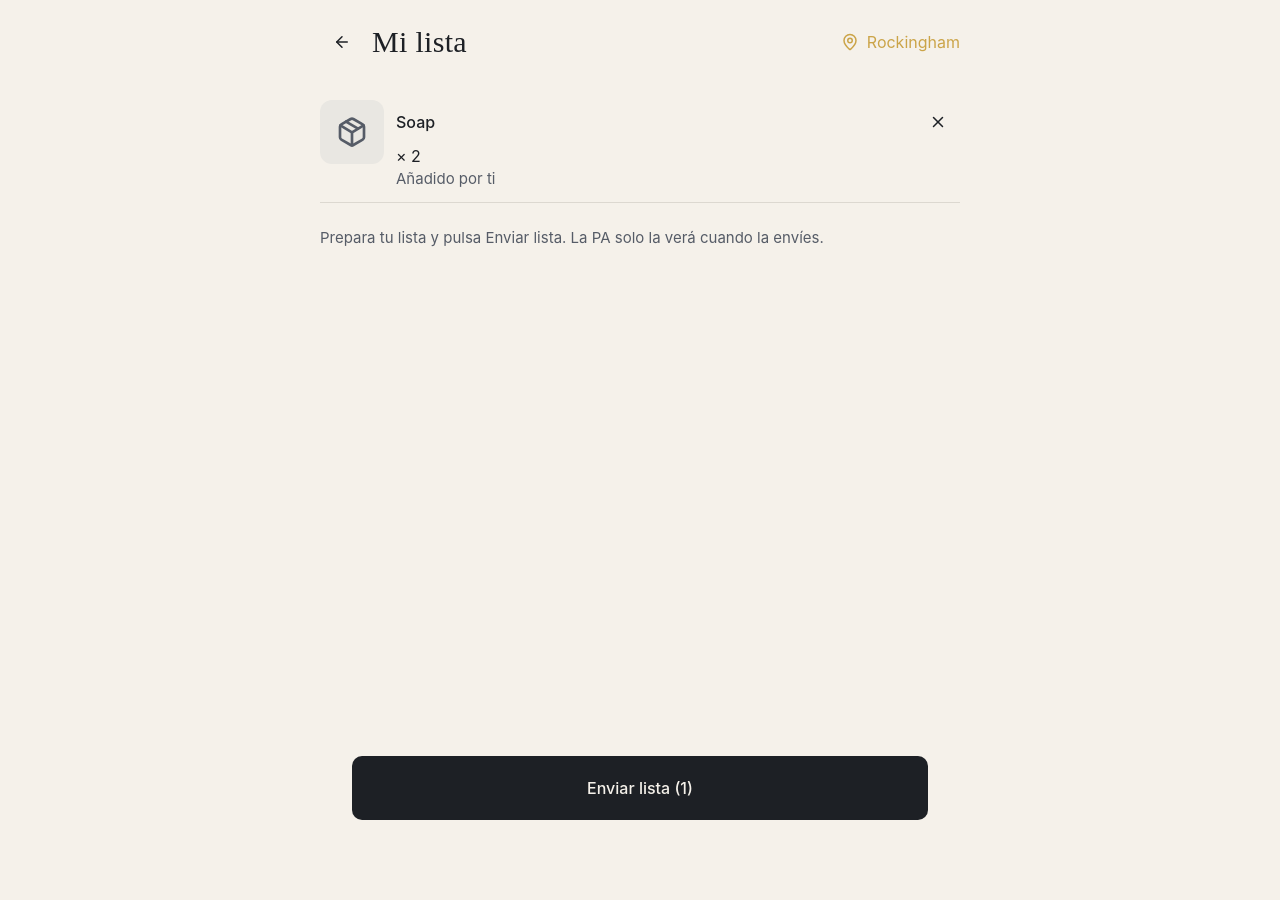
Test case: requester screens › Spanish list send and arrival labels
Click the button "Enviar lista (1)". click: (640, 788)
box: [352,756,928,820]
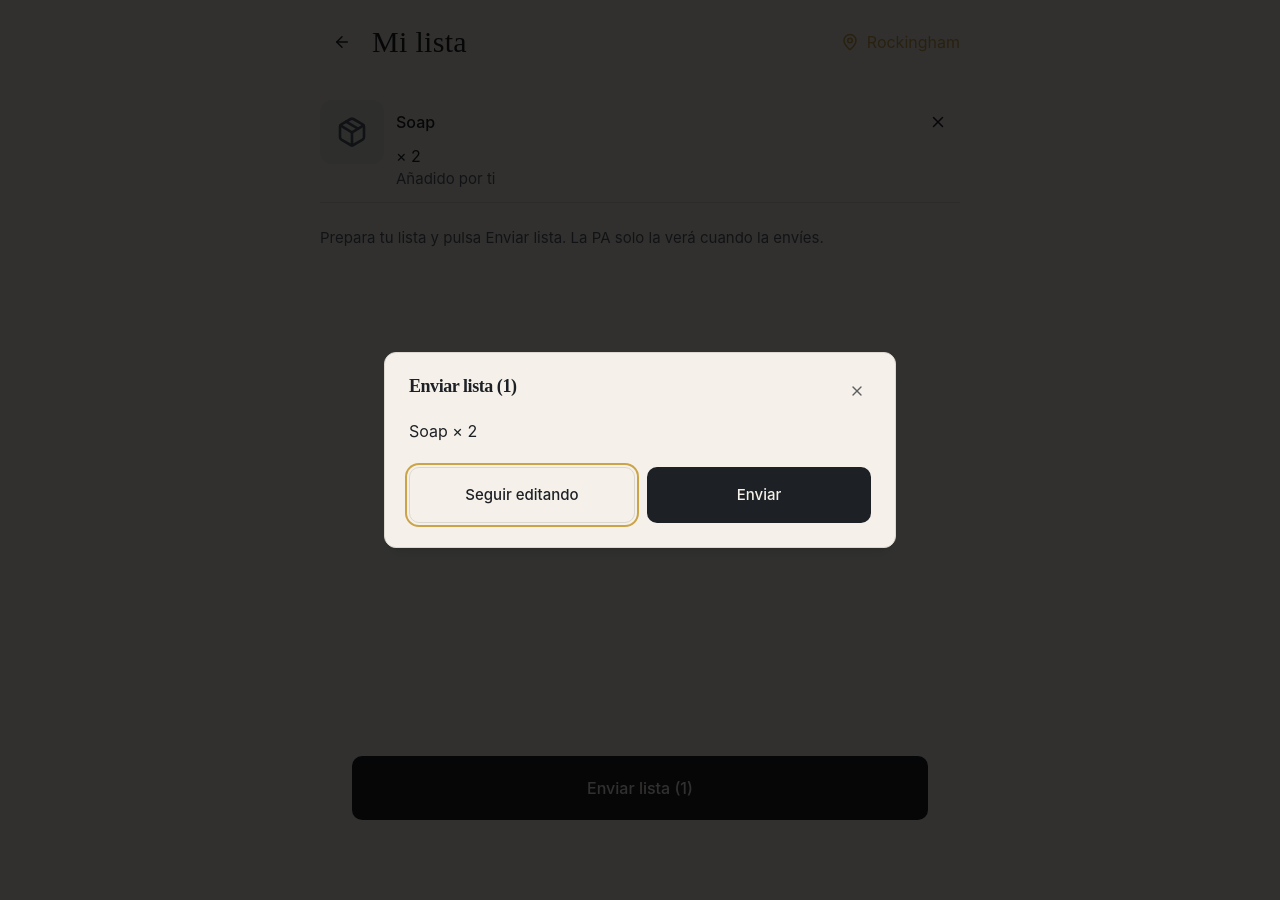
expect the button "Seguir editando" is shown: met, box [409,467,635,523]
expect the button "Enviar" is shown: met, box [647,467,871,523]
